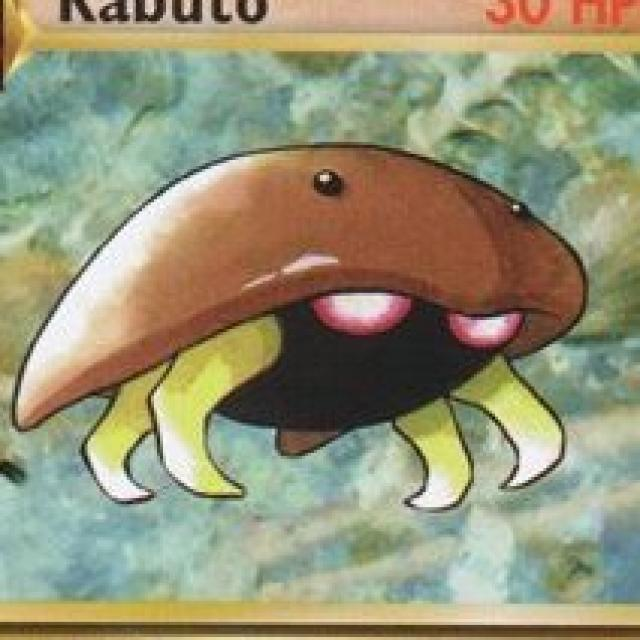Kabuto: (14, 142, 592, 512)
